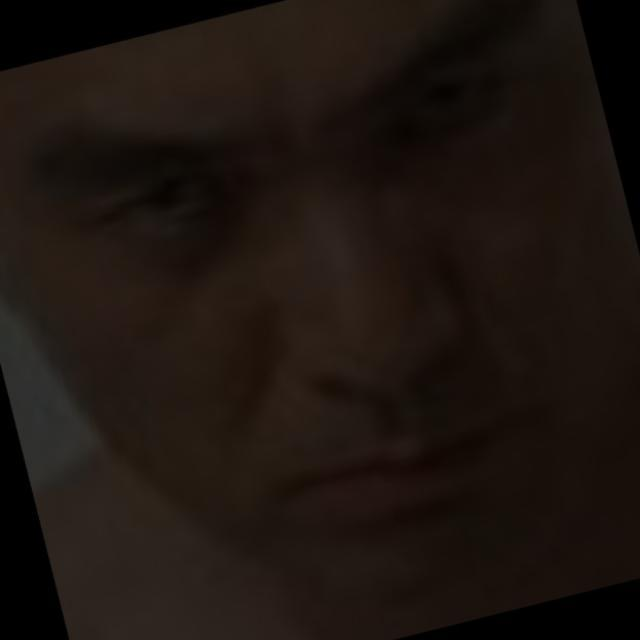Angry: (27, 50, 640, 573)
